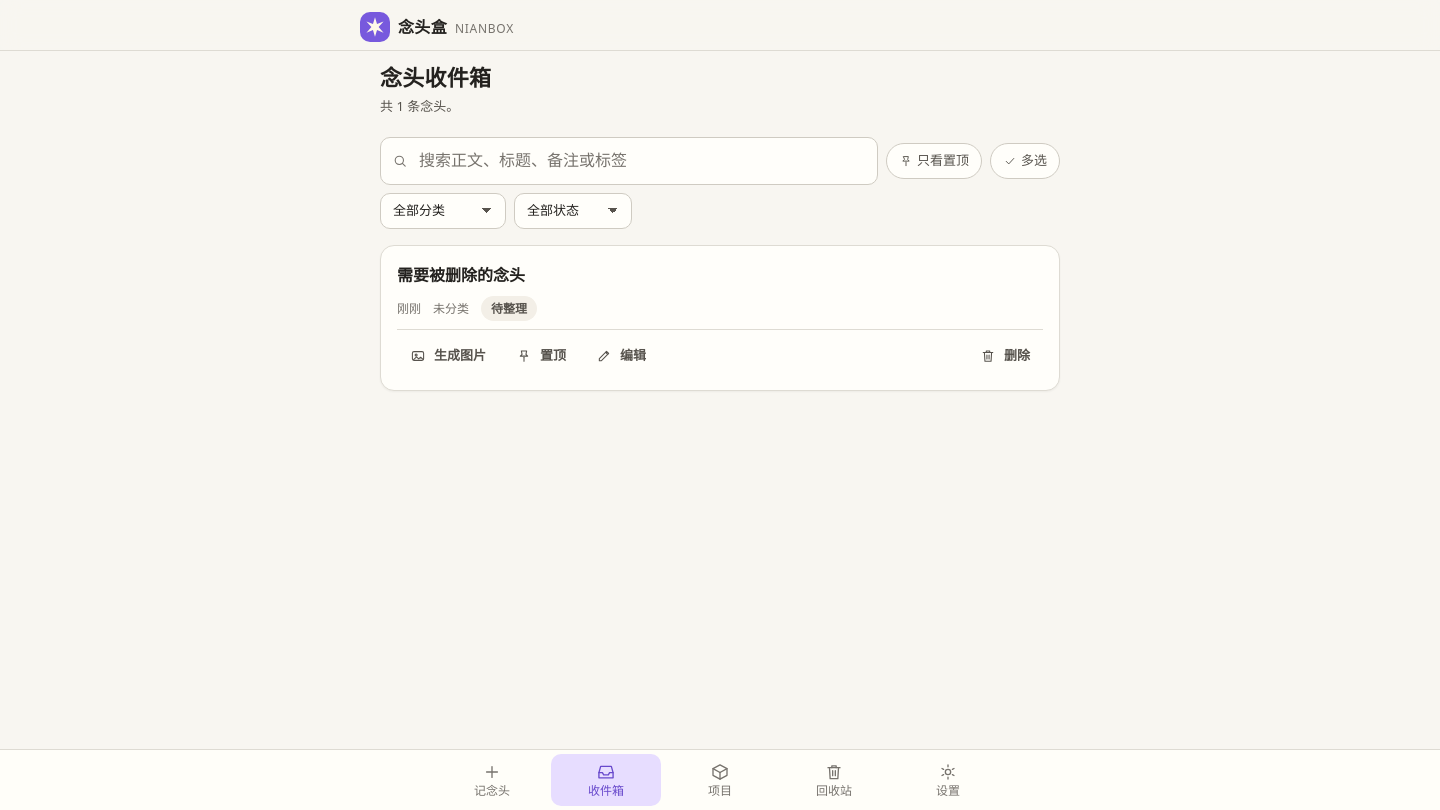
Test: 控制台与未处理异常 › 删除确认对话框可以正常打开与关闭，且提供键盘焦点
The image size is (1440, 810).
Click the button "删除" at (1005, 356), box [967,338,1043,374]
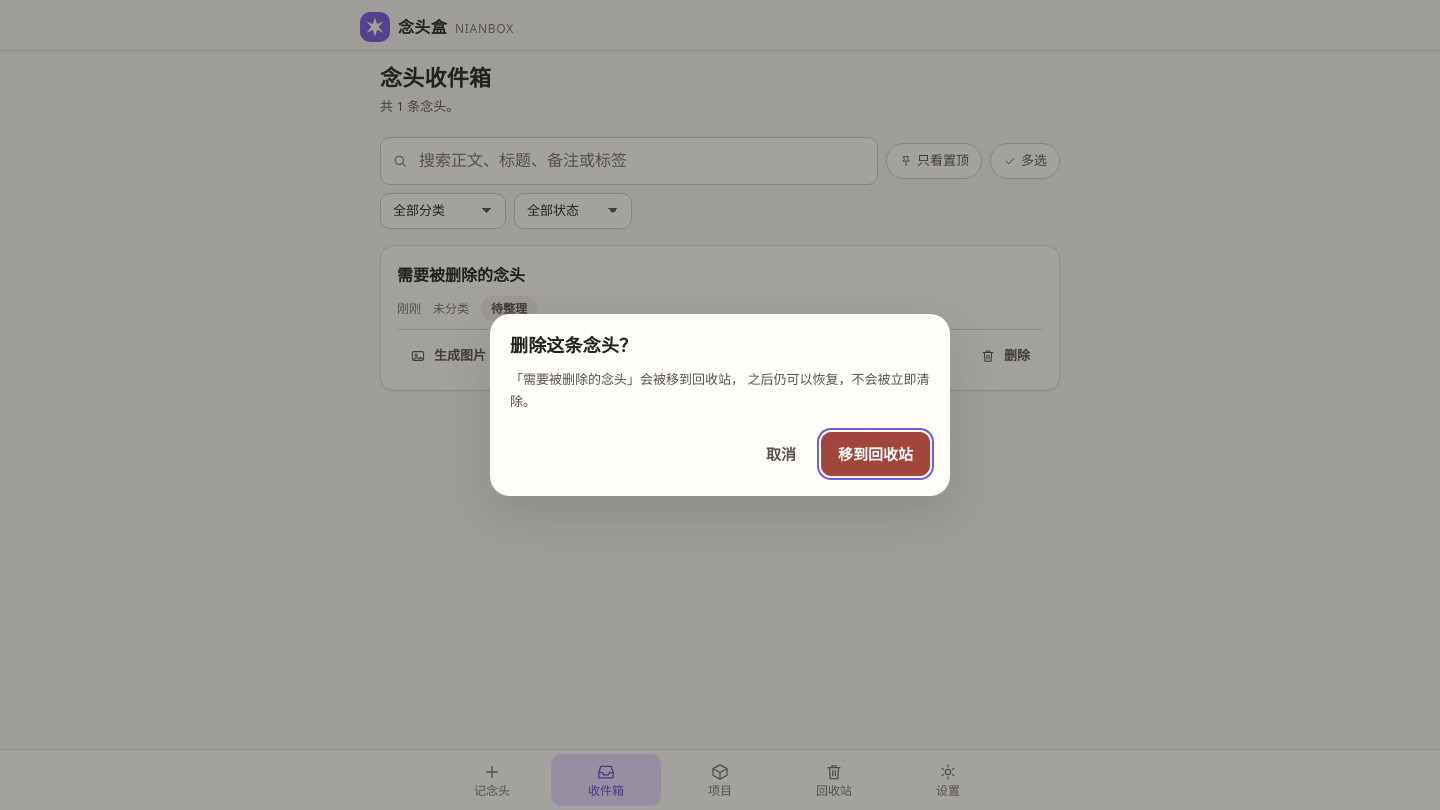
Check: the button "取消" is shown
Click the button "取消" at (781, 454), box [749,432,813,476]
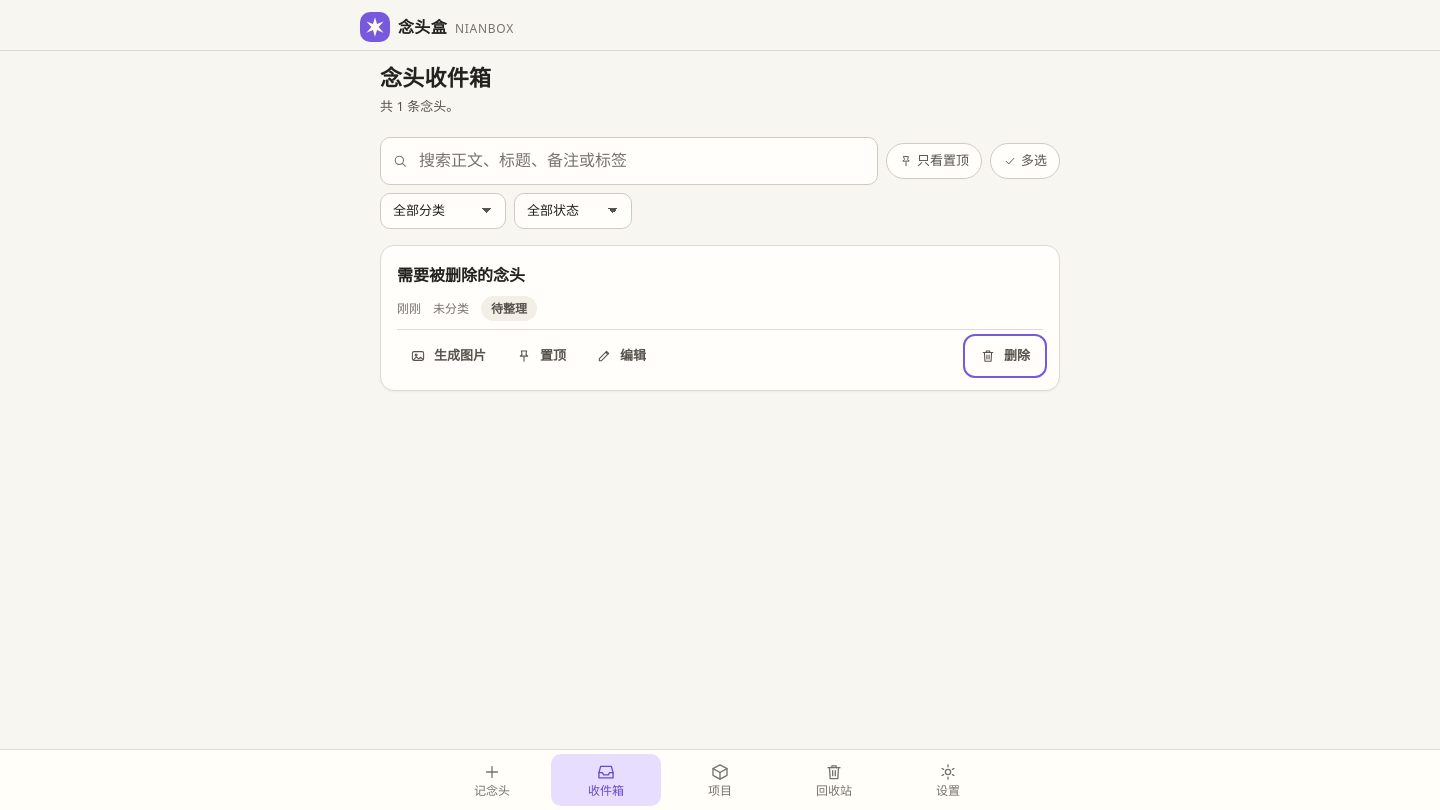
Check: the dialog is gone
